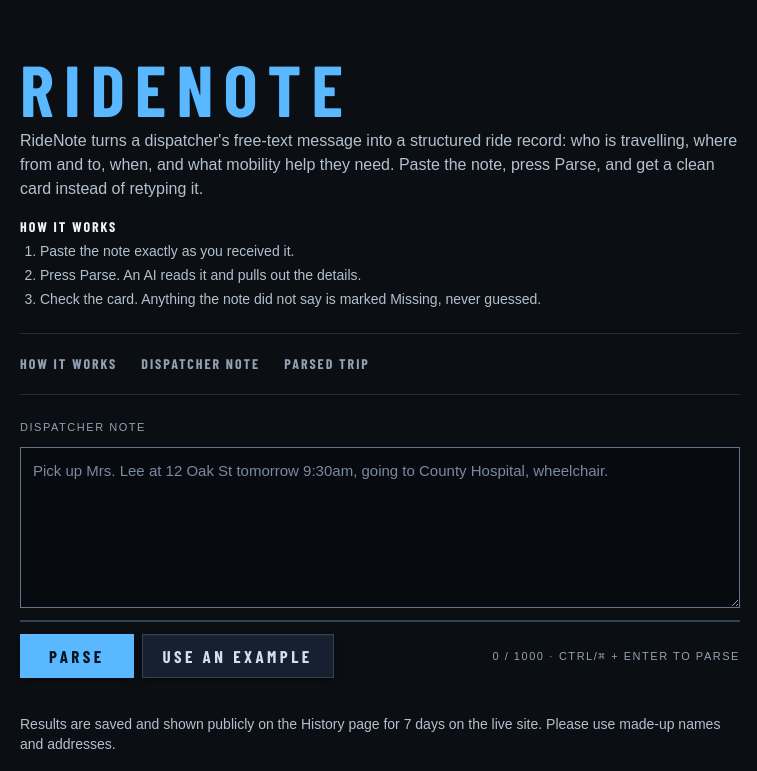
it: accessibility (axe) › home page, showing a result
Click the button "Use an example" at (238, 656), box [142,634,334,678]
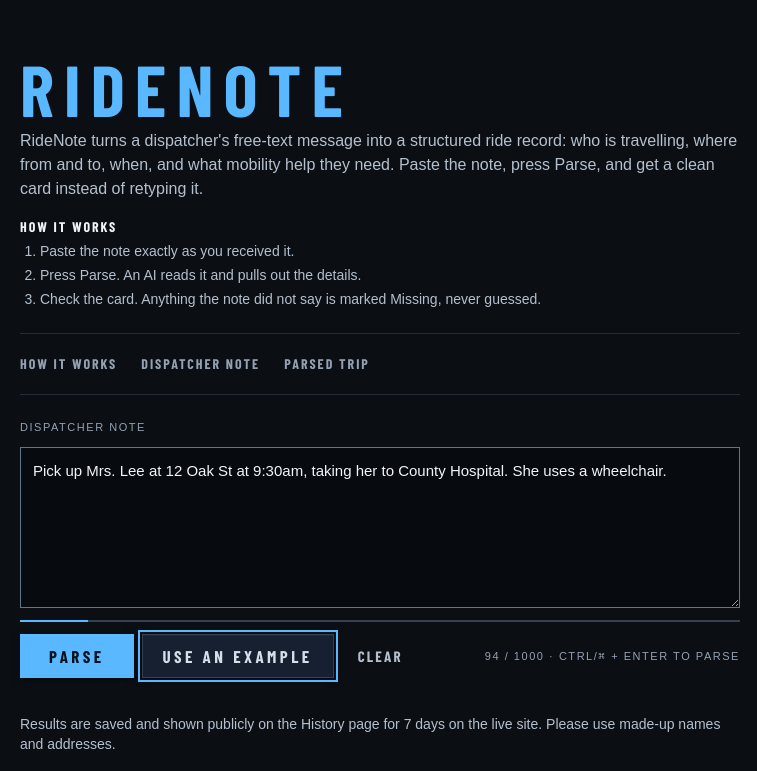
Click the button "Parse" at (77, 656), box [20,634,134,678]
(page scrolled)
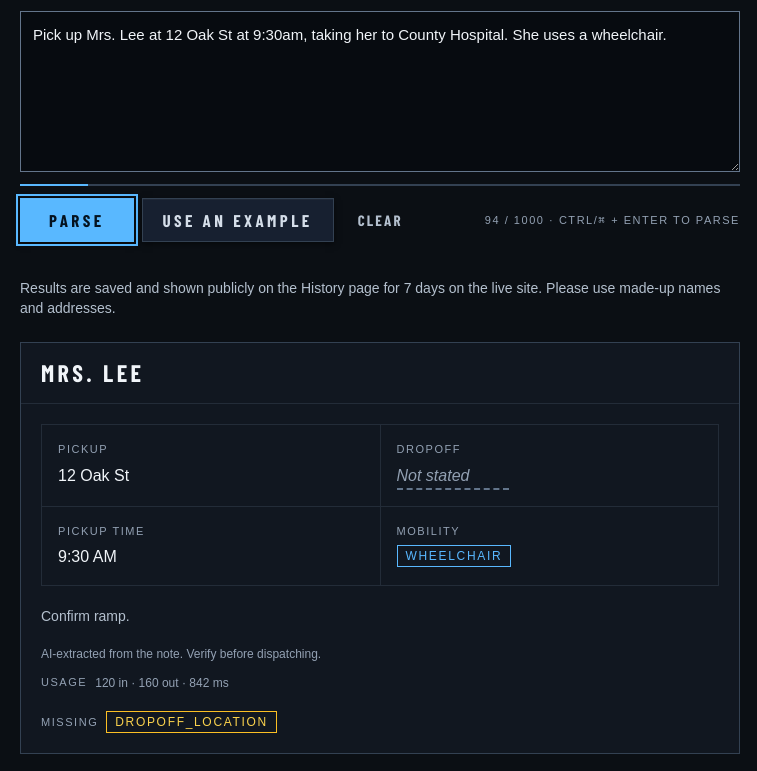
Expected: the heading "Mrs. Lee" is shown, [21,343,739,404]
